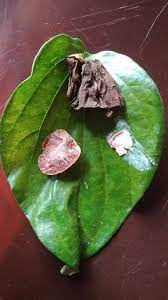bulathwita: (2, 34, 167, 275)
